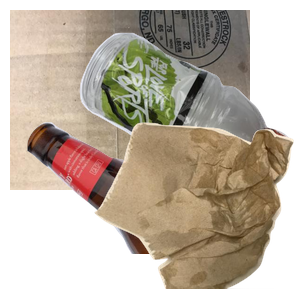cardboard: (10, 10, 250, 190)
glass: (25, 120, 265, 300)
plastic: (77, 30, 300, 198)
trash: (92, 120, 300, 300)
